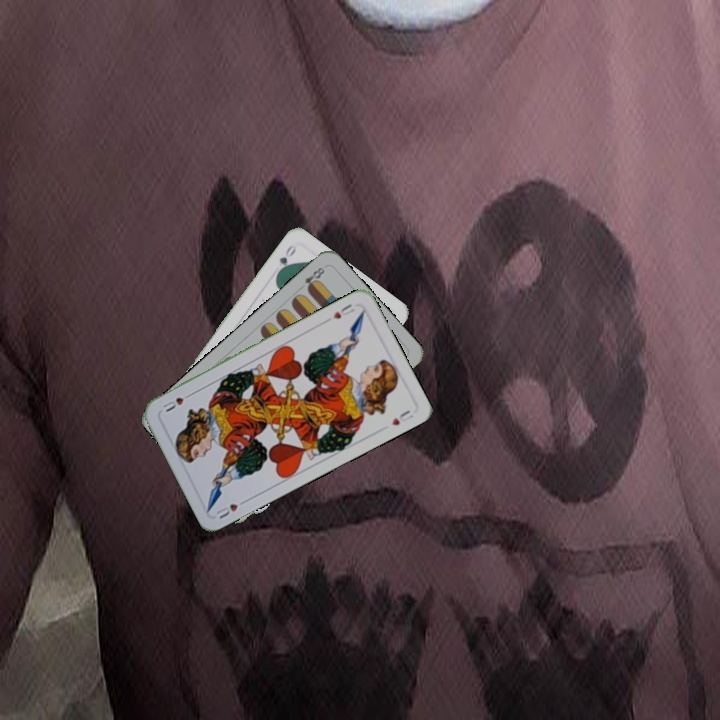E8: (295, 263, 327, 294)
GO: (273, 241, 299, 278)
HU: (212, 495, 250, 522), (329, 300, 357, 321)
